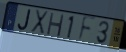1: (66, 15, 75, 40)
3: (95, 20, 110, 45)
F: (76, 15, 97, 43)
H: (46, 12, 66, 39)
J: (17, 9, 32, 32)
X: (30, 9, 49, 36)
